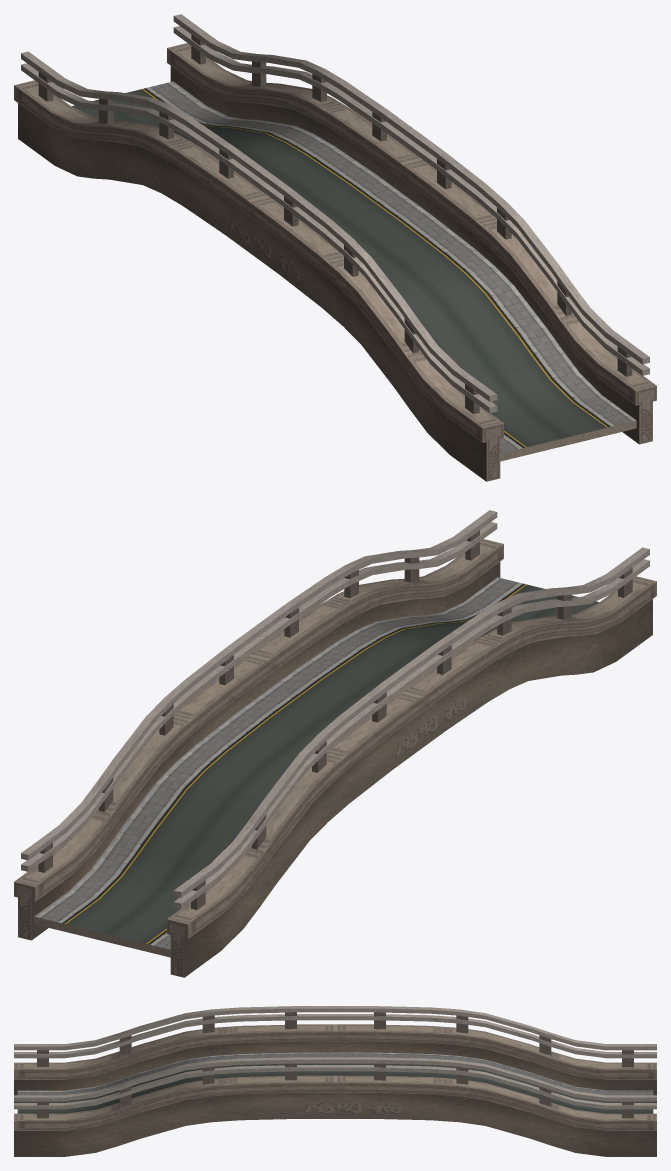
File: bridge1.fbx
3 renders of one model, top to bottom at view 1: azimuth 30°, elevation 25°; view 2: azimuth 150°, elevation 25°; view 3: azimuth 270°, elevation 25°, orthographic. The views are drawn at different scales.
Parts seen in each view (by area): view 1: bridge1; view 2: bridge1; view 3: bridge1.
Boxes of the visible parts, left/top/right/bottom form: bridge1: left=14, top=14, right=656, bottom=481; bridge1: left=14, top=510, right=656, bottom=977; bridge1: left=14, top=1006, right=656, bottom=1156.
Size of the model in its own units: 14.01 by 10.78 by 65.26.
1 material, 1 textured.
